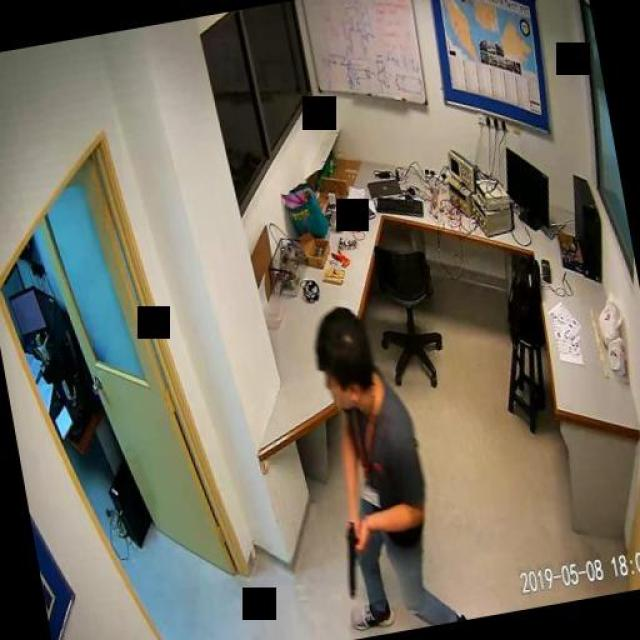gun: (334, 518, 366, 598)
